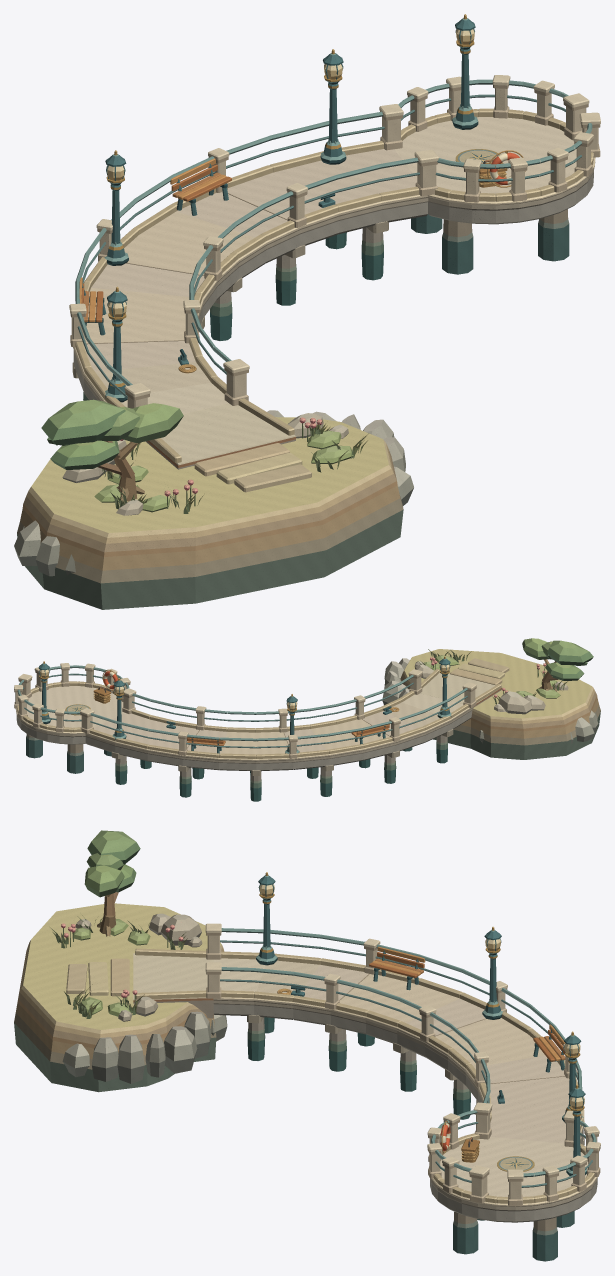
Rendered from muni_pier.glb.
The picture shows the model from 3 angles, top to bottom: view 1: azimuth 30°, elevation 25°; view 2: azimuth 150°, elevation 25°; view 3: azimuth 270°, elevation 25°; orthographic projection. The views are drawn at different scales.
Visible parts, largest first — view 1: Windward shore, Limestone arcade, Coping and rails, Promenade furniture, Pilings and timbers, Dock fittings; view 2: Windward shore, Limestone arcade, Coping and rails, Pilings and timbers, Promenade furniture, Dock fittings; view 3: Windward shore, Limestone arcade, Coping and rails, Pilings and timbers, Promenade furniture, Dock fittings.
Part boxes in pixels (left/top/right/bottom): Windward shore: left=14, top=193, right=413, bottom=609; Limestone arcade: left=73, top=117, right=595, bottom=414; Coping and rails: left=69, top=75, right=600, bottom=408; Promenade furniture: left=79, top=14, right=478, bottom=402; Pilings and timbers: left=72, top=209, right=569, bottom=400; Dock fittings: left=178, top=149, right=525, bottom=373; Windward shore: left=187, top=638, right=600, bottom=759; Limestone arcade: left=15, top=686, right=471, bottom=770; Coping and rails: left=14, top=663, right=476, bottom=758; Pilings and timbers: left=26, top=729, right=453, bottom=801; Promenade furniture: left=38, top=656, right=451, bottom=753; Dock fittings: left=65, top=669, right=399, bottom=728; Windward shore: left=14, top=830, right=565, bottom=1092; Limestone arcade: left=213, top=958, right=597, bottom=1222; Coping and rails: left=205, top=923, right=600, bottom=1205; Pilings and timbers: left=247, top=1015, right=584, bottom=1261; Promenade furniture: left=256, top=872, right=587, bottom=1175; Dock fittings: left=277, top=986, right=534, bottom=1171.
Bounding box in the file's own units: 22.23 × 5.12 × 17.35.
1 material, 1 textured.
